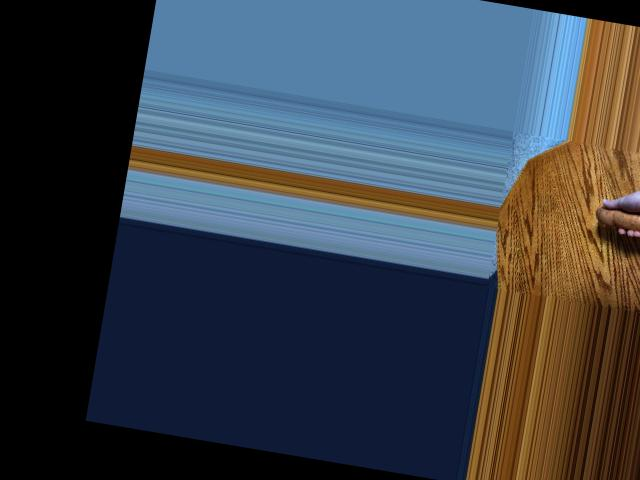sweet_potato: (597, 198, 640, 242)
